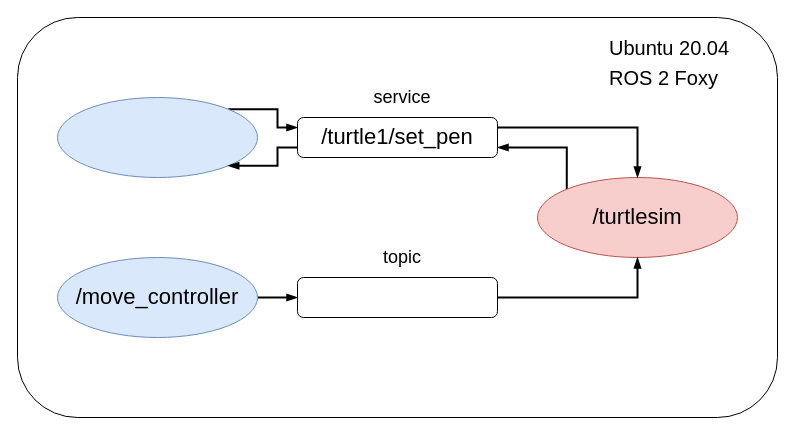
Image size: 795x435. Some labels were removed from this diagram. Here are the shapes that lost their labels. From the top down, the box of each, then its label:
(56, 96, 258, 178): /color_controller
(296, 276, 498, 318): /turtle1/cmd_vel
